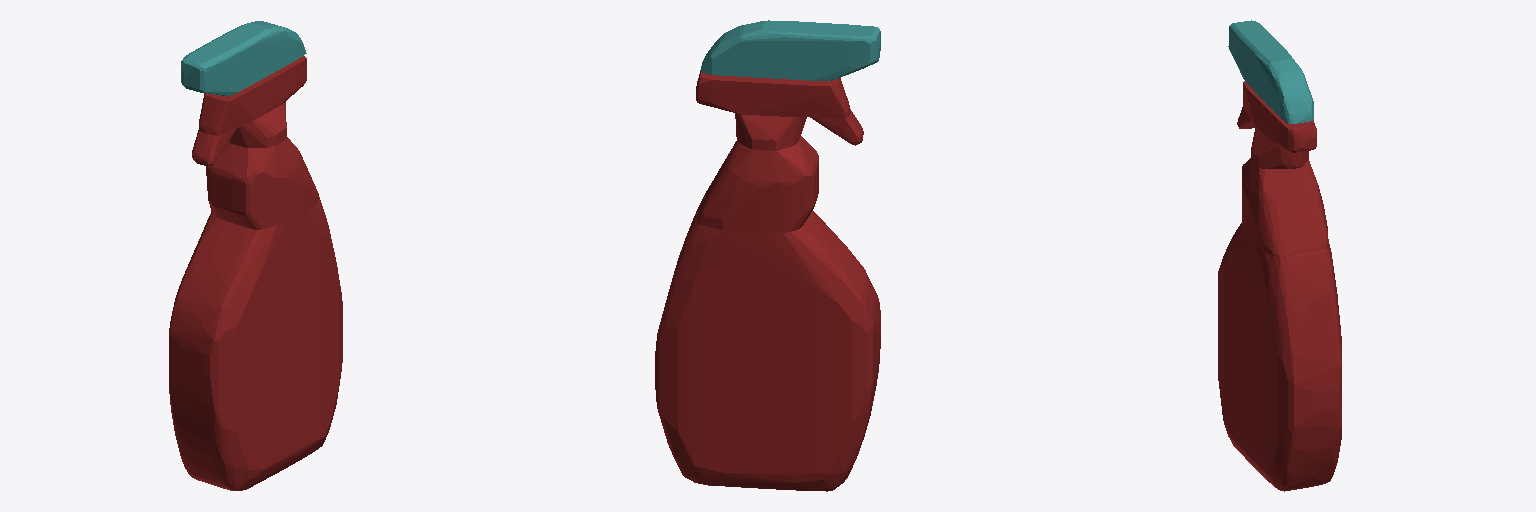
URDF robot description (root):
<robot name="root">
  <link name="bottle_body">
    <inertial>
      <origin xyz="0 0 0" rpy="0 0 0"/>
    </inertial>
    <mass value="1.00E-02"/>
    <visual>
      <origin xyz="0 0 0" rpy="0 0 0"/>
      <geometry>
        <mesh filename="core-bottle-d45bf1487b41d2f630612f5c0ef21eb8-coacd_convex_piece_5.obj" scale="1.0000E-01 1.0000E-01 1.0000E-01"/>
      </geometry>
      <material name="">
        <color rgba="6.00E-01 2.00E-01 2.00E-01 1"/>
      </material>
    </visual>
    <collision>
      <origin xyz="0 0 0" rpy="0 0 0"/>
      <geometry>
        <mesh filename="core-bottle-d45bf1487b41d2f630612f5c0ef21eb8-coacd_convex_piece_5.obj" scale="1.0000E-01 1.0000E-01 1.0000E-01"/>
      </geometry>
    </collision>
    <visual>
      <origin xyz="0 0 0" rpy="0 0 0"/>
      <geometry>
        <mesh filename="core-bottle-d45bf1487b41d2f630612f5c0ef21eb8-coacd_convex_piece_0.obj" scale="1.0000E-01 1.0000E-01 1.0000E-01"/>
      </geometry>
      <material name="">
        <color rgba="6.00E-01 2.00E-01 2.00E-01 1"/>
      </material>
    </visual>
    <collision>
      <origin xyz="0 0 0" rpy="0 0 0"/>
      <geometry>
        <mesh filename="core-bottle-d45bf1487b41d2f630612f5c0ef21eb8-coacd_convex_piece_0.obj" scale="1.0000E-01 1.0000E-01 1.0000E-01"/>
      </geometry>
    </collision>
    <visual>
      <origin xyz="0 0 0" rpy="0 0 0"/>
      <geometry>
        <mesh filename="core-bottle-d45bf1487b41d2f630612f5c0ef21eb8-coacd_convex_piece_1.obj" scale="1.0000E-01 1.0000E-01 1.0000E-01"/>
      </geometry>
      <material name="">
        <color rgba="6.00E-01 2.00E-01 2.00E-01 1"/>
      </material>
    </visual>
    <collision>
      <origin xyz="0 0 0" rpy="0 0 0"/>
      <geometry>
        <mesh filename="core-bottle-d45bf1487b41d2f630612f5c0ef21eb8-coacd_convex_piece_1.obj" scale="1.0000E-01 1.0000E-01 1.0000E-01"/>
      </geometry>
    </collision>
    <visual>
      <origin xyz="0 0 0" rpy="0 0 0"/>
      <geometry>
        <mesh filename="core-bottle-d45bf1487b41d2f630612f5c0ef21eb8-coacd_convex_piece_3.obj" scale="1.0000E-01 1.0000E-01 1.0000E-01"/>
      </geometry>
      <material name="">
        <color rgba="6.00E-01 2.00E-01 2.00E-01 1"/>
      </material>
    </visual>
    <collision>
      <origin xyz="0 0 0" rpy="0 0 0"/>
      <geometry>
        <mesh filename="core-bottle-d45bf1487b41d2f630612f5c0ef21eb8-coacd_convex_piece_3.obj" scale="1.0000E-01 1.0000E-01 1.0000E-01"/>
      </geometry>
    </collision>
    <visual>
      <origin xyz="0 0 0" rpy="0 0 0"/>
      <geometry>
        <mesh filename="core-bottle-d45bf1487b41d2f630612f5c0ef21eb8-coacd_convex_piece_4.obj" scale="1.0000E-01 1.0000E-01 1.0000E-01"/>
      </geometry>
      <material name="">
        <color rgba="6.00E-01 2.00E-01 2.00E-01 1"/>
      </material>
    </visual>
    <collision>
      <origin xyz="0 0 0" rpy="0 0 0"/>
      <geometry>
        <mesh filename="core-bottle-d45bf1487b41d2f630612f5c0ef21eb8-coacd_convex_piece_4.obj" scale="1.0000E-01 1.0000E-01 1.0000E-01"/>
      </geometry>
    </collision>
  </link>
  <link name="bottle_cap">
    <origin xyz="0 0 0.002" rpy="0 0 0"/>
    <mass value="1.00E-02"/>
    <visual>
      <origin xyz="0 0 0.002" rpy="0 0 0"/>
      <geometry>
        <mesh filename="core-bottle-d45bf1487b41d2f630612f5c0ef21eb8-coacd_convex_piece_2.obj" scale="1.0000E-01 1.0000E-01 1.0000E-01"/>
      </geometry>
      <material name="">
        <color rgba="3.00E-01 6.00E-01 6.00E-01 1"/>
      </material>
    </visual>
    <collision>
      <origin xyz="0 0 0.002" rpy="0 0 0"/>
      <geometry>
        <mesh filename="core-bottle-d45bf1487b41d2f630612f5c0ef21eb8-coacd_convex_piece_2.obj" scale="1.0000E-01 1.0000E-01 1.0000E-01"/>
      </geometry>
    </collision>
  </link>
  <joint name="bottle_cap_joint" type="revolute">
    <origin xyz="0 0 0" rpy="0 0 0"/>
    <parent link="bottle_body"/>
    <child link="bottle_cap"/>
    <axis xyz="0 0 1"/>
    <limit lower="0.00" upper="6.28"/>
    <dynamics damping="0.05"/>
  </joint>
</robot>

--- Facts derived from the render (not from the file) ---
Views: 3 orthographic renders of the robot side by side, from view 1: azimuth 30°, elevation 25°; view 2: azimuth 150°, elevation 25°; view 3: azimuth 270°, elevation 25°.
Robot: root — 2 links, 1 joints (1 revolute); root link bottle_body; default pose: all joints at 0.
Visible links, largest first — view 1: bottle_body, bottle_cap; view 2: bottle_body, bottle_cap; view 3: bottle_body, bottle_cap.
Boxes of the visible links, box(x1,y1,x2,y2) form: bottle_body: box(169, 56, 342, 490); bottle_cap: box(181, 21, 306, 96); bottle_body: box(655, 72, 880, 491); bottle_cap: box(700, 20, 880, 80); bottle_body: box(1218, 81, 1341, 491); bottle_cap: box(1228, 20, 1313, 123).
Bounding box of the posed robot: 0.0819 × 0.0507 × 0.1813 m (x, y, z).
6 mesh visuals loaded from 6 distinct referenced files (6 OBJ).